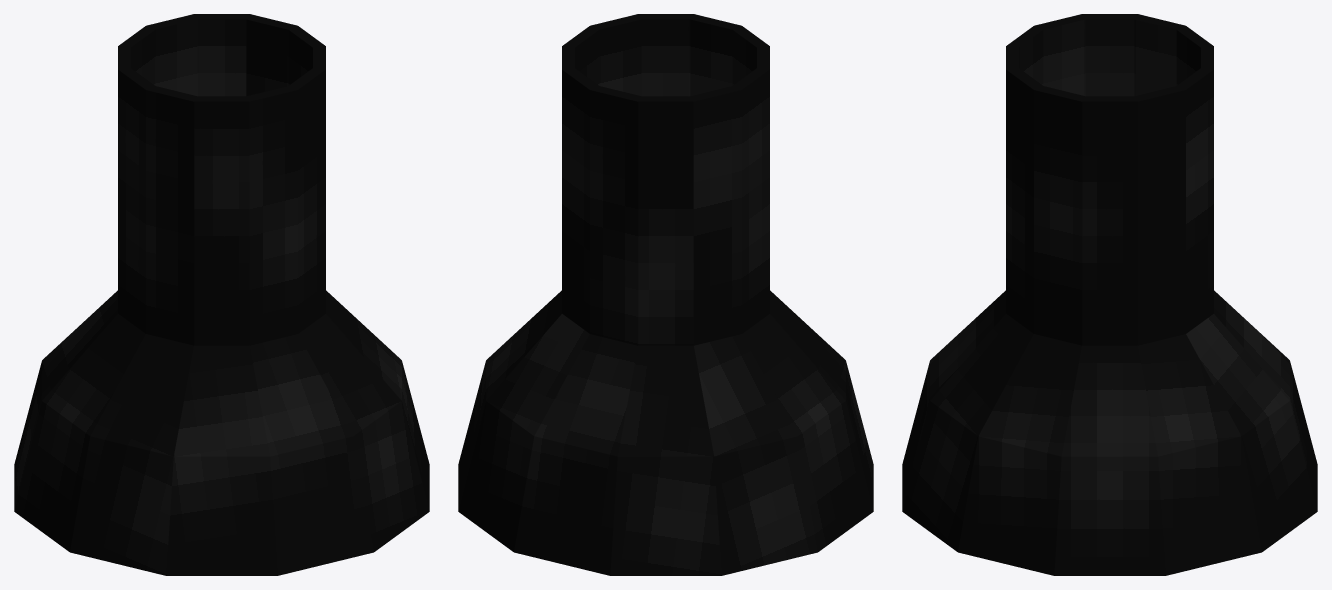
File: steam_chimney.gltf
3 views of the same model, side by side, from view 1: azimuth 30°, elevation 25°; view 2: azimuth 150°, elevation 25°; view 3: azimuth 270°, elevation 25° (orthographic).
Visible parts, largest first — view 1: chimney; view 2: chimney; view 3: chimney.
Boxes of the visible parts, x1,y1,x2,y2 form: chimney: [14, 14, 429, 575]; chimney: [458, 14, 873, 575]; chimney: [902, 14, 1317, 575].
Size of the model in its own units: 8.75 by 10 by 8.75.
Materials: 1 (1 with a texture image).
